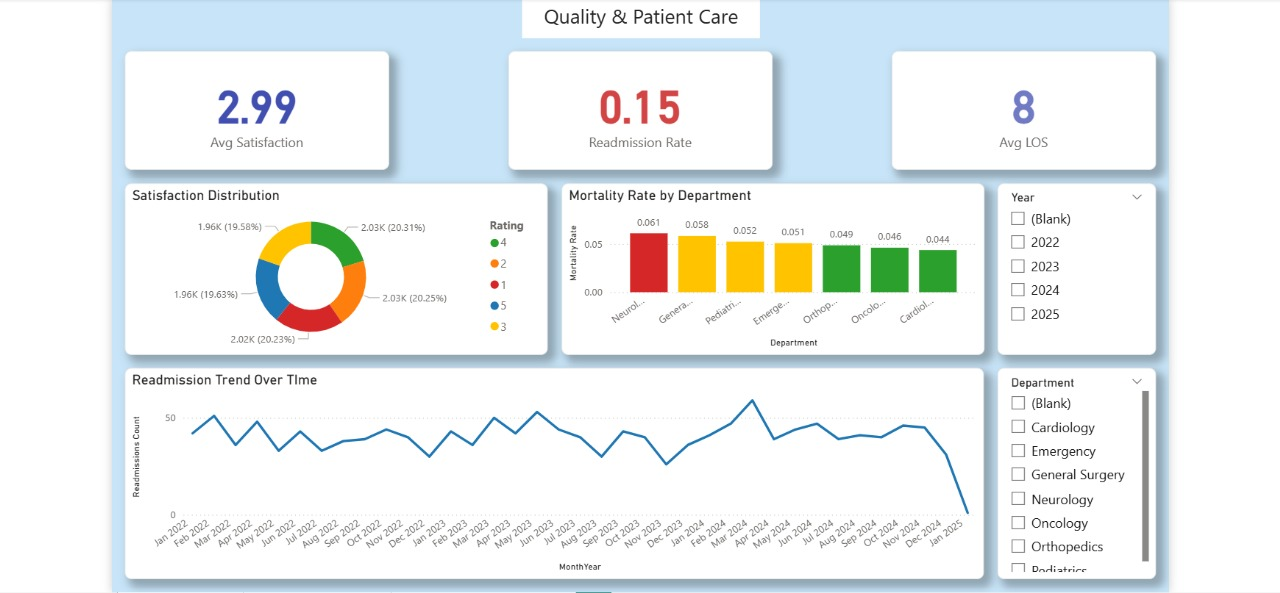

What the dashboard file says about the page in this screenshot:
{"tool":"powerbi","page":{"name":"Quality & Patient Care","canvas":[1280,720],"ordinal":1},"visuals":[{"type":"textbox","box":[496,0,288,48],"z":0},{"type":"card","fields":{"Values":["FactTreatments.Avg Satisfaction"]},"box":[16,64,320,144],"z":1000},{"type":"card","fields":{"Values":["FactTreatments.Readmission Rate"]},"box":[480,64,320,144],"z":2000},{"type":"card","fields":{"Values":["FactTreatments.Avg LOS"]},"box":[944,64,320,144],"z":3000},{"type":"donutChart","title":"Satisfaction Distribution","fields":{"Category":["FactSurvey.Rating"],"Y":["CountNonNull(FactSurvey.PatientID)"]},"box":[16,224,512,208],"z":4000},{"type":"clusteredColumnChart","title":"Mortality Rate by Department","fields":{"Category":["DimPatients.Department"],"Y":["FactTreatments.Mortality Rate"]},"box":[544,224,512,208],"z":5000},{"type":"lineChart","title":"Readmission Trend Over TIme","fields":{"Y":["FactTreatments.Readmissions Count"],"Category":["DimPatients.MonthYear"]},"box":[16,448,1040,256],"z":6000},{"type":"actionButton","box":[0,0,100,40],"z":7000},{"type":"slicer","fields":{"Values":["DimDate.Year"]},"box":[1072,224,192,208],"z":8000},{"type":"slicer","fields":{"Values":["DimPatients.Department"]},"box":[1072,448,192,256],"z":9000}]}

Visuals, with their boxes on the page's 1280x720 design canvas (x1, y1, x2, y2). These are canvas units, not pixel positions in the 1280x593 screenshot, which may show the page scaled, cropped or inside an application window:
textbox: [left=496, top=0, right=784, bottom=48]
card - FactTreatments.Avg Satisfaction: [left=16, top=64, right=336, bottom=208]
card - FactTreatments.Readmission Rate: [left=480, top=64, right=800, bottom=208]
card - FactTreatments.Avg LOS: [left=944, top=64, right=1264, bottom=208]
"Satisfaction Distribution" donutChart: [left=16, top=224, right=528, bottom=432]
"Mortality Rate by Department" clusteredColumnChart: [left=544, top=224, right=1056, bottom=432]
"Readmission Trend Over TIme" lineChart: [left=16, top=448, right=1056, bottom=704]
actionButton: [left=0, top=0, right=100, bottom=40]
slicer - DimDate.Year: [left=1072, top=224, right=1264, bottom=432]
slicer - DimPatients.Department: [left=1072, top=448, right=1264, bottom=704]
